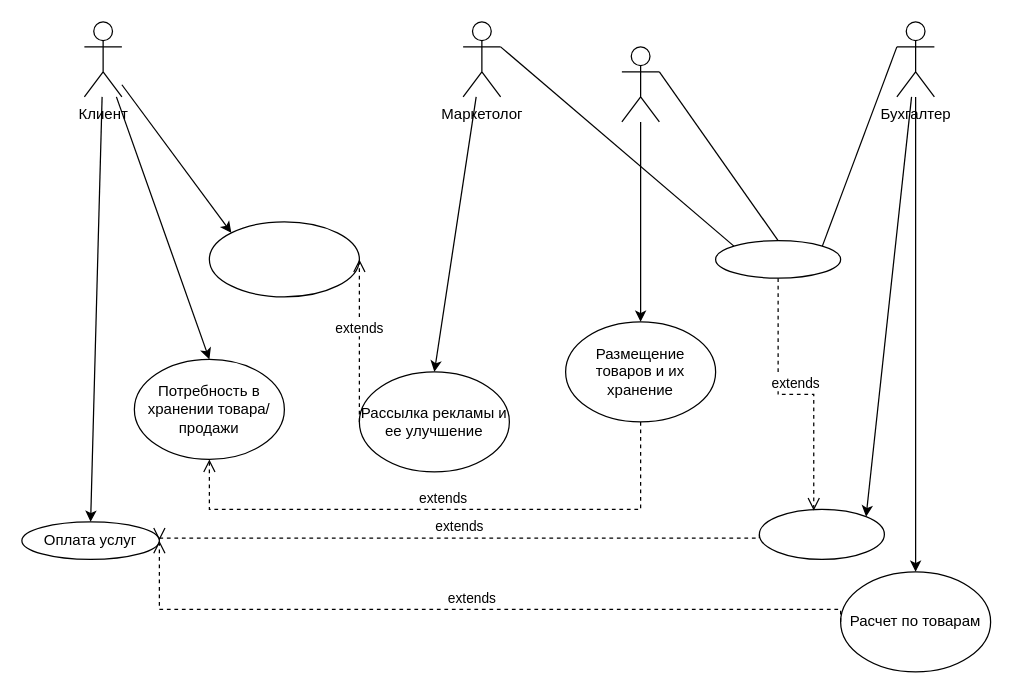
Image size: 1013x694. Some labels were removed from this diagram. Here are the shapes that lost their labels. From the top down, the box of each, then its label:
(621, 46, 659, 122): Инженер
(208, 221, 359, 297): Предоставление рекаламы
(714, 239, 841, 278): Зарплата
(758, 508, 884, 559): выплата зарплаты
